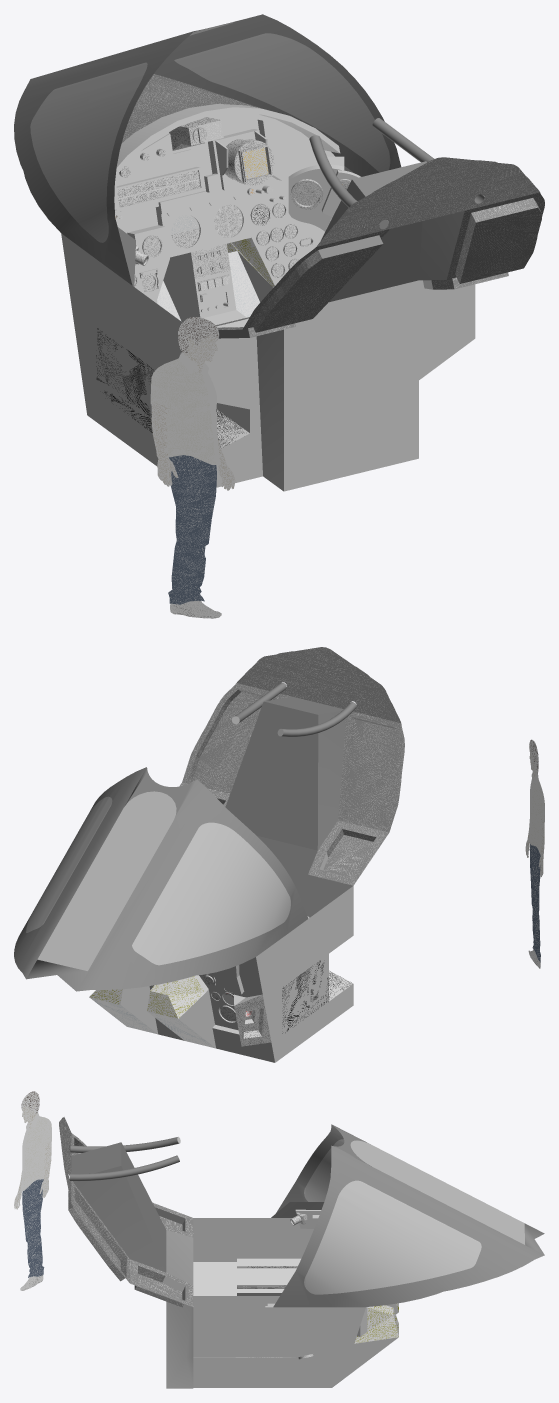
The model's file is asset.glb.
3 views of the same model, one above another, from view 1: azimuth 30°, elevation 25°; view 2: azimuth 150°, elevation 25°; view 3: azimuth 270°, elevation 25° (orthographic). The views are drawn at different scales.
Visible parts, largest first — view 1: instance_1.011, instance_1, instance_1.002, instance_1.001, instance_1.196, instance_1.312, instance_0, instance_1.328, instance_1.385, instance_0.005, instance_1.167, instance_1.197 (+15 smaller); view 2: instance_1, instance_1.011, instance_1.001, instance_1.312, instance_1.196, instance_1.003, instance_1.385, instance_1.328, instance_1.167, instance_1.002, instance_1.270, instance_1.327 (+6 smaller); view 3: instance_1.011, instance_1.002, instance_1, instance_1.312, instance_1.003, instance_1.196, instance_1.328, instance_0, instance_0.005, instance_1.116, instance_1.001, instance_1.336 (+4 smaller).
Part boxes in pixels (bbox=[...]): instance_1.011: bbox=[61, 107, 475, 491]; instance_1: bbox=[14, 14, 401, 285]; instance_1.002: bbox=[174, 33, 390, 172]; instance_1.001: bbox=[30, 62, 147, 242]; instance_1.196: bbox=[216, 157, 544, 329]; instance_1.312: bbox=[321, 161, 464, 302]; instance_0: bbox=[168, 455, 216, 604]; instance_1.328: bbox=[455, 198, 541, 283]; instance_1.385: bbox=[252, 244, 382, 332]; instance_0.005: bbox=[150, 359, 216, 464]; instance_1.167: bbox=[96, 327, 249, 448]; instance_1.197: bbox=[122, 74, 261, 142]; instance_1: bbox=[14, 767, 308, 991]; instance_1.011: bbox=[120, 836, 353, 1062]; instance_1.001: bbox=[132, 822, 290, 965]; instance_1.312: bbox=[225, 696, 345, 850]; instance_1.196: bbox=[179, 647, 404, 885]; instance_1.003: bbox=[37, 791, 176, 970]; instance_1.385: bbox=[344, 717, 399, 825]; instance_1.328: bbox=[189, 689, 276, 787]; instance_1.167: bbox=[282, 954, 353, 1035]; instance_1.002: bbox=[26, 796, 112, 932]; instance_1.270: bbox=[147, 976, 205, 1018]; instance_1.327: bbox=[323, 829, 375, 876]; instance_1.011: bbox=[166, 1202, 398, 1388]; instance_1.002: bbox=[304, 1180, 481, 1294]; instance_1: bbox=[273, 1124, 544, 1307]; instance_1.312: bbox=[71, 1142, 166, 1272]; instance_1.003: bbox=[350, 1140, 524, 1244]; instance_1.196: bbox=[59, 1117, 193, 1306]; instance_1.328: bbox=[68, 1187, 126, 1281]; instance_0: bbox=[22, 1179, 44, 1277]; instance_0.005: bbox=[22, 1116, 51, 1191]; instance_1.116: bbox=[354, 1305, 398, 1343]; instance_1.001: bbox=[304, 1139, 344, 1201]; instance_1.336: bbox=[134, 1266, 183, 1307].
Bounding box in the file's own units: 2.65 × 2.22 × 4.32.
